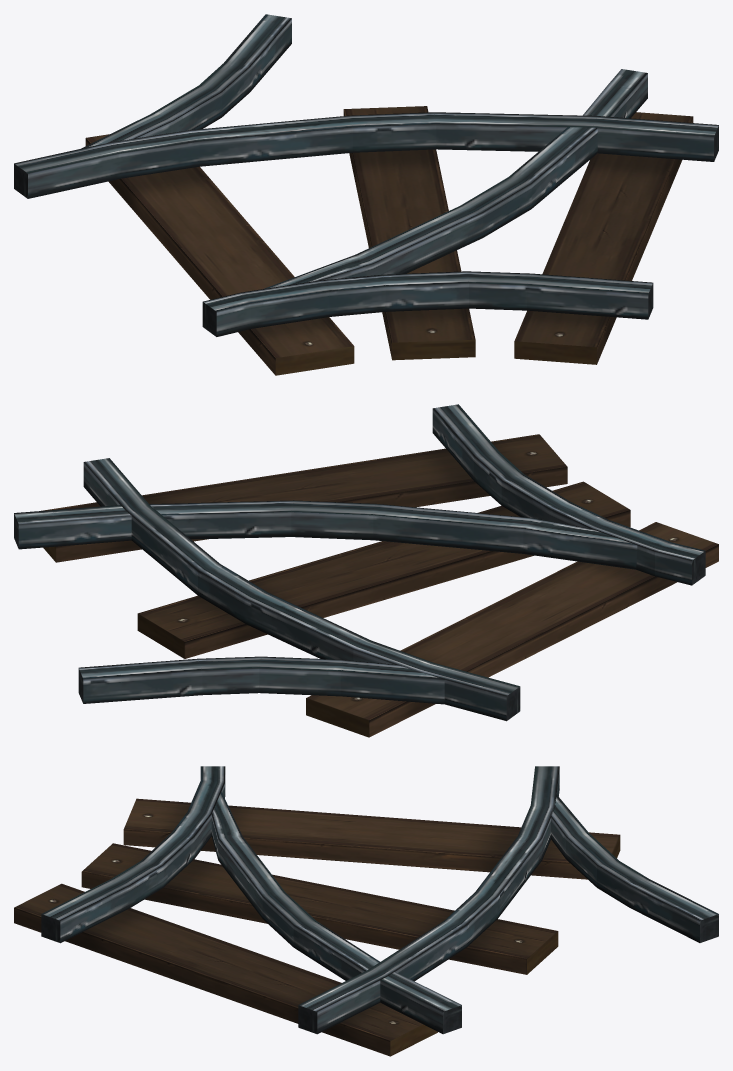
File: rail4.FBX
3 views of the same model, one above another, from view 1: azimuth 30°, elevation 25°; view 2: azimuth 150°, elevation 25°; view 3: azimuth 270°, elevation 25° (orthographic). The views are drawn at different scales.
Parts seen in each view (by area): view 1: rail4; view 2: rail4; view 3: rail4.
Part boxes in pixels (x1,y1,x2,y2): rail4: (14, 14, 718, 375); rail4: (14, 404, 718, 737); rail4: (14, 766, 718, 1056).
Size of the model in its own units: 145 by 10.19 by 171.
